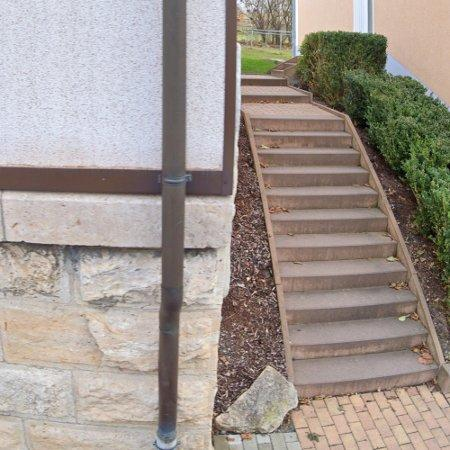stairs: (242, 75, 445, 398)
